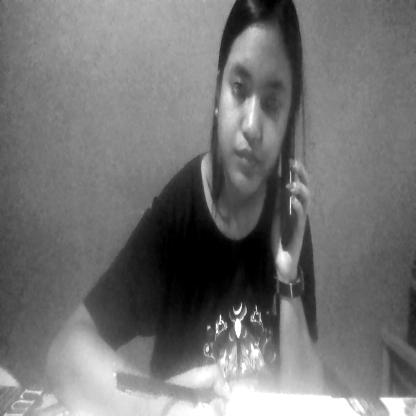Normal: (218, 21, 288, 194)
